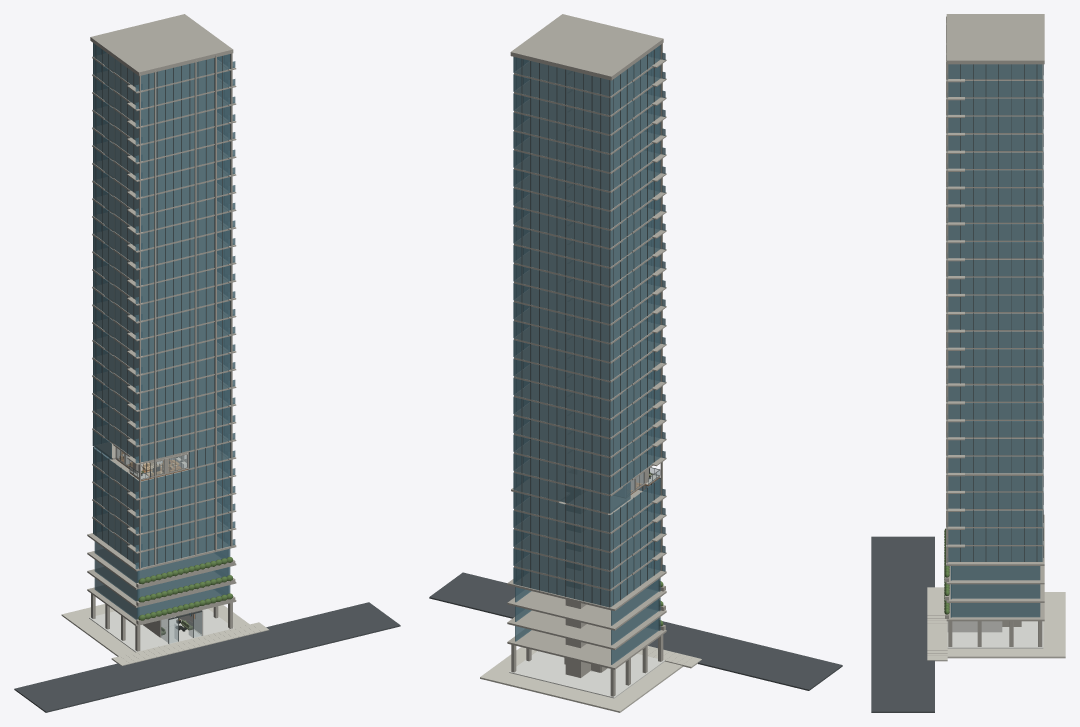
Rendered from torre-natalini.0852d795c5.glb.
The picture shows the model from 3 angles, left to right: view 1: azimuth 30°, elevation 25°; view 2: azimuth 150°, elevation 25°; view 3: azimuth 270°, elevation 25°; orthographic projection. The views are drawn at different scales.
Parts seen in each view (by area): view 1: COL__fachada__Vidrio_fachada_azul_gris, COL__fachada__Hormigon, COL__entorno__Asfalto, COL__fachada__Aluminio, COL__podio__Hormigon, COL__podio__Vidrio_fachada_azul_gris, COL__entorno__Piedra, COL__podio__Marmol, VIS__podio__Hojas, COL__hall__Vidrio_claro; view 2: COL__fachada__Vidrio_fachada_azul_gris, COL__fachada__Hormigon, COL__fachada__Aluminio, COL__podio__Hormigon, COL__entorno__Asfalto, COL__entorno__Piedra, COL__podio__Marmol, COL__podio__Vidrio_fachada_azul_gris, COL__nucleo__Hormigon; view 3: COL__fachada__Hormigon, COL__fachada__Vidrio_fachada_azul_gris, COL__entorno__Asfalto, COL__podio__Hormigon, COL__fachada__Aluminio, COL__podio__Vidrio_fachada_azul_gris, COL__entorno__Piedra, COL__podio__Marmol, COL__hall__Marmol.
Boxes of the visible parts, x1,y1,x2,y2 form: COL__fachada__Vidrio_fachada_azul_gris: [92, 43, 235, 568]; COL__fachada__Hormigon: [90, 14, 236, 571]; COL__entorno__Asfalto: [14, 602, 400, 712]; COL__fachada__Aluminio: [93, 44, 230, 565]; COL__podio__Hormigon: [87, 530, 236, 651]; COL__podio__Vidrio_fachada_azul_gris: [94, 541, 230, 619]; COL__entorno__Piedra: [61, 604, 268, 665]; COL__podio__Marmol: [89, 608, 233, 652]; VIS__podio__Hojas: [138, 557, 232, 620]; COL__hall__Vidrio_claro: [161, 612, 201, 643]; COL__fachada__Vidrio_fachada_azul_gris: [513, 45, 665, 607]; COL__fachada__Hormigon: [510, 14, 666, 610]; COL__fachada__Aluminio: [521, 49, 660, 607]; COL__podio__Hormigon: [507, 567, 666, 696]; COL__entorno__Asfalto: [429, 572, 842, 690]; COL__entorno__Piedra: [480, 646, 701, 712]; COL__podio__Marmol: [509, 651, 664, 698]; COL__podio__Vidrio_fachada_azul_gris: [515, 578, 660, 664]; COL__nucleo__Hormigon: [565, 469, 590, 677]; COL__fachada__Hormigon: [946, 14, 1044, 565]; COL__fachada__Vidrio_fachada_azul_gris: [947, 64, 1043, 563]; COL__entorno__Asfalto: [871, 536, 934, 712]; COL__podio__Hormigon: [945, 514, 1044, 646]; COL__fachada__Aluminio: [960, 64, 1043, 561]; COL__podio__Vidrio_fachada_azul_gris: [950, 566, 1040, 617]; COL__entorno__Piedra: [927, 587, 1065, 661]; COL__podio__Marmol: [947, 621, 1043, 648]; COL__hall__Marmol: [947, 621, 1002, 632].
Size of the model in its own units: 65 by 102 by 30.5.
